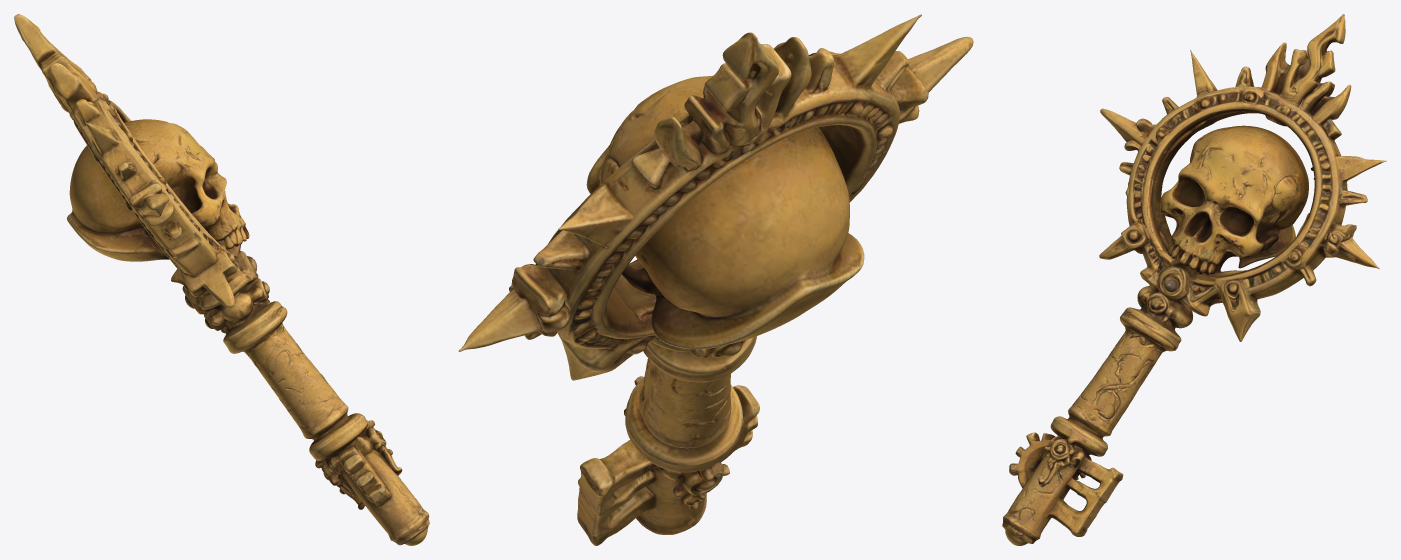
File: tripo_pbr_model_5b062d34-dc4d-4347-a34a-2534972f1fc5.fbx
3 renders of one model, left to right at view 1: azimuth 30°, elevation 25°; view 2: azimuth 150°, elevation 25°; view 3: azimuth 270°, elevation 25°, orthographic. The views are drawn at different scales.
Visible parts, largest first — view 1: Object_01; view 2: Object_01; view 3: Object_01.
Part boxes in pixels (box(x1,y1,x2,y2)): Object_01: box(14, 14, 429, 545); Object_01: box(458, 14, 973, 545); Object_01: box(1002, 14, 1386, 545).
Bounding box in the file's own units: 6.99 × 12 × 9.73.
